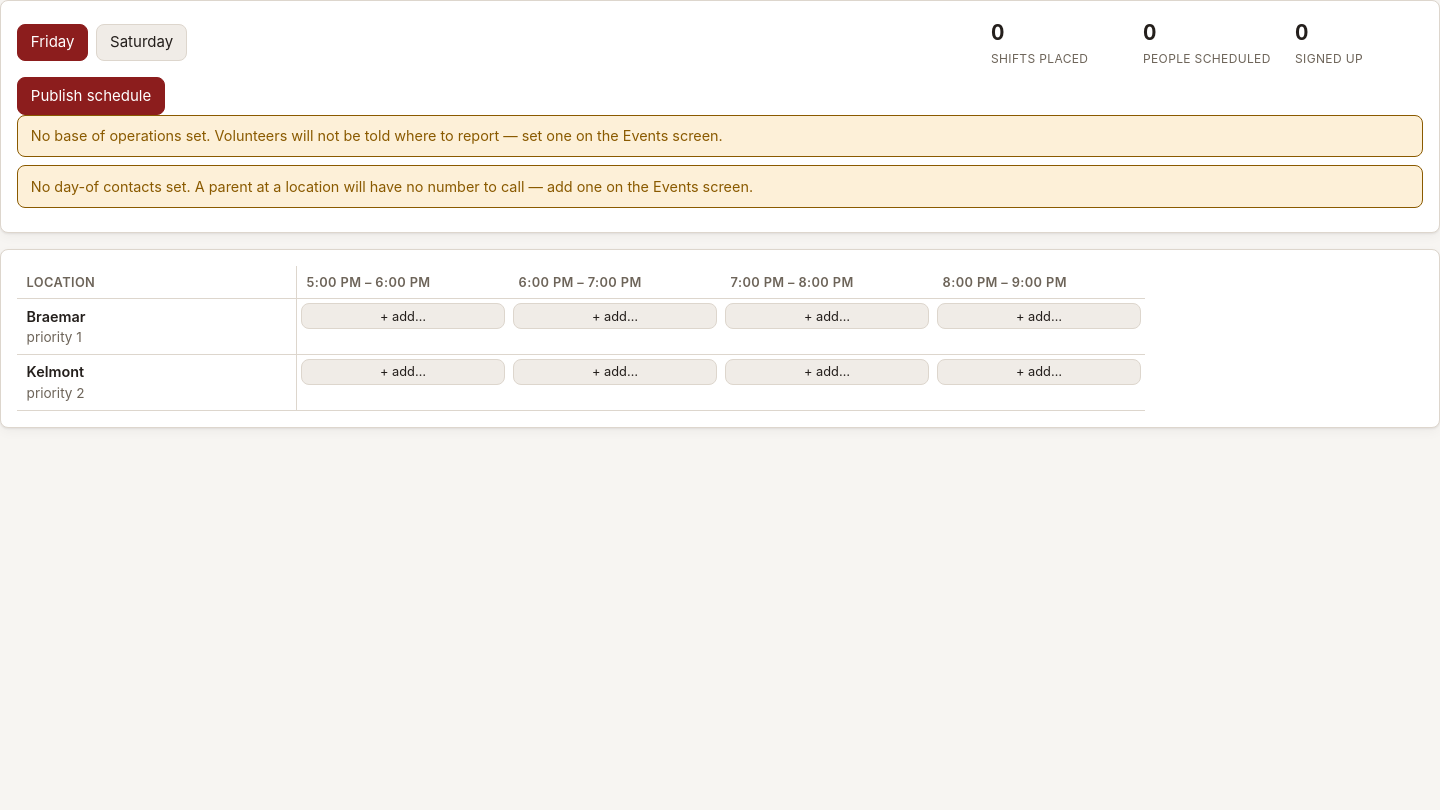
Test case: the fix holds for repeated adds › recovers after a failure and keeps accepting adds
Click the 1st button with class "cell-add": [403, 316] box [301, 303, 505, 329]
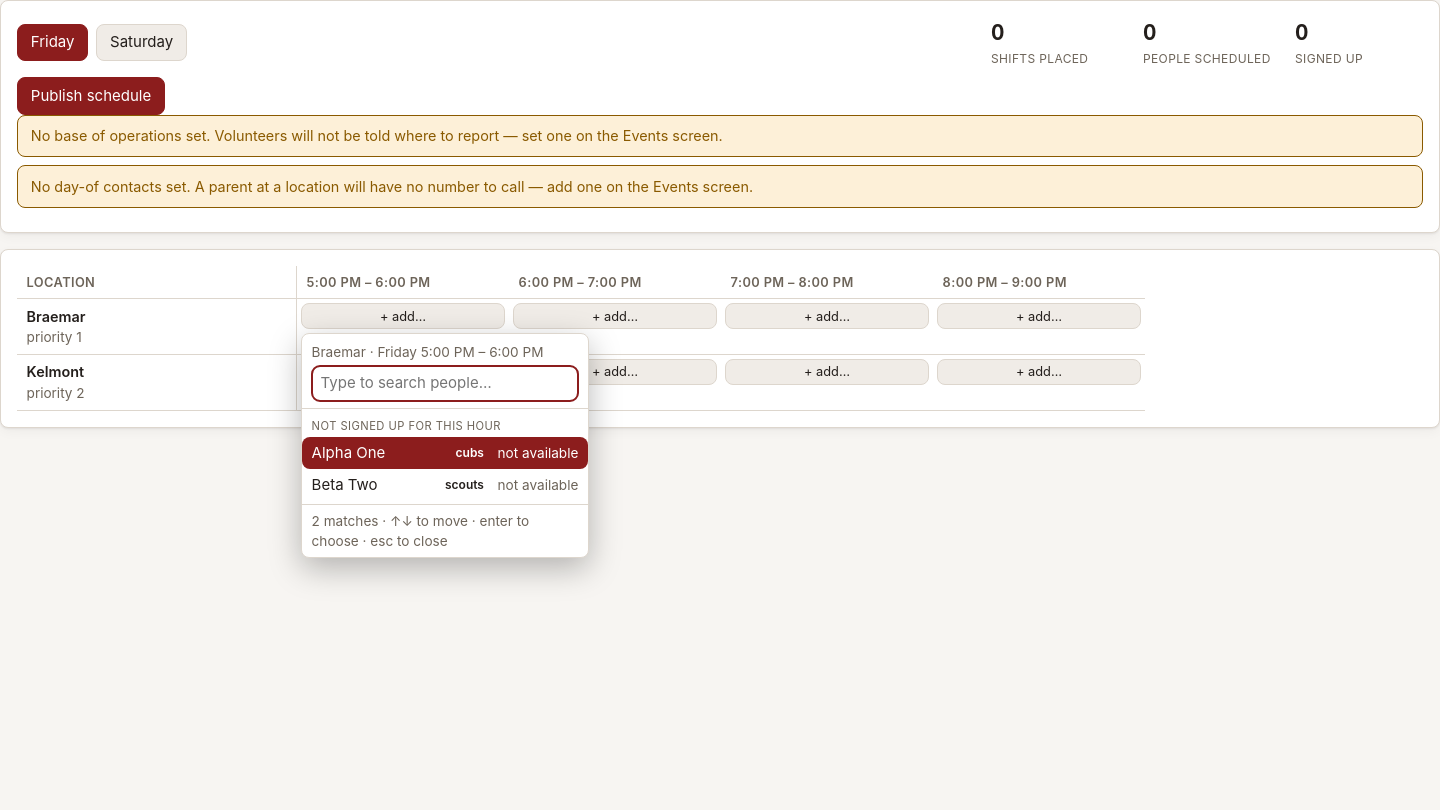
Click the option "Alpha One cubs not available": [348, 452] box [302, 437, 588, 469]
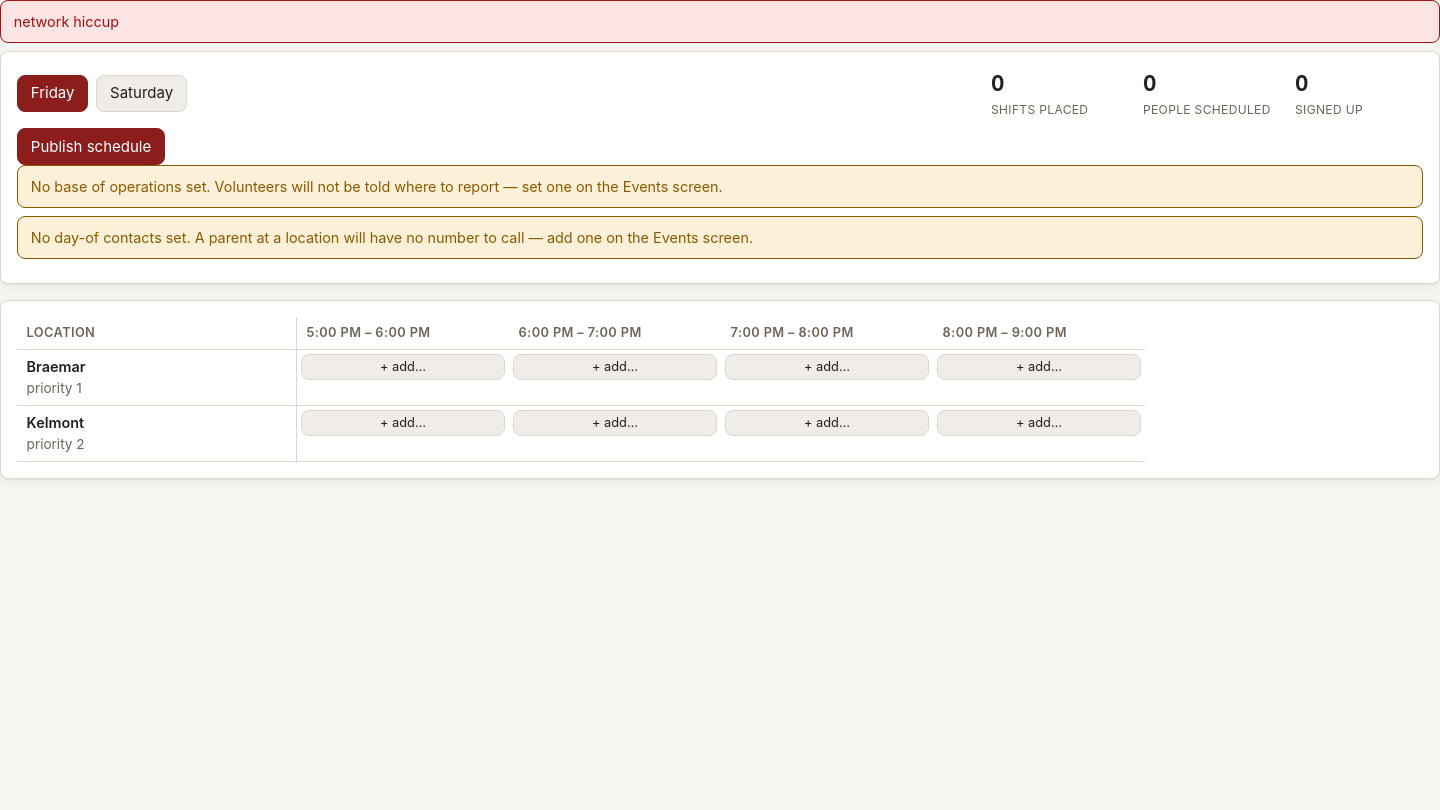
Expected: the text "network hiccup" is shown, [0, 0, 1439, 43]
Click the 5th button with class "cell-add": [403, 423] box [301, 410, 505, 436]
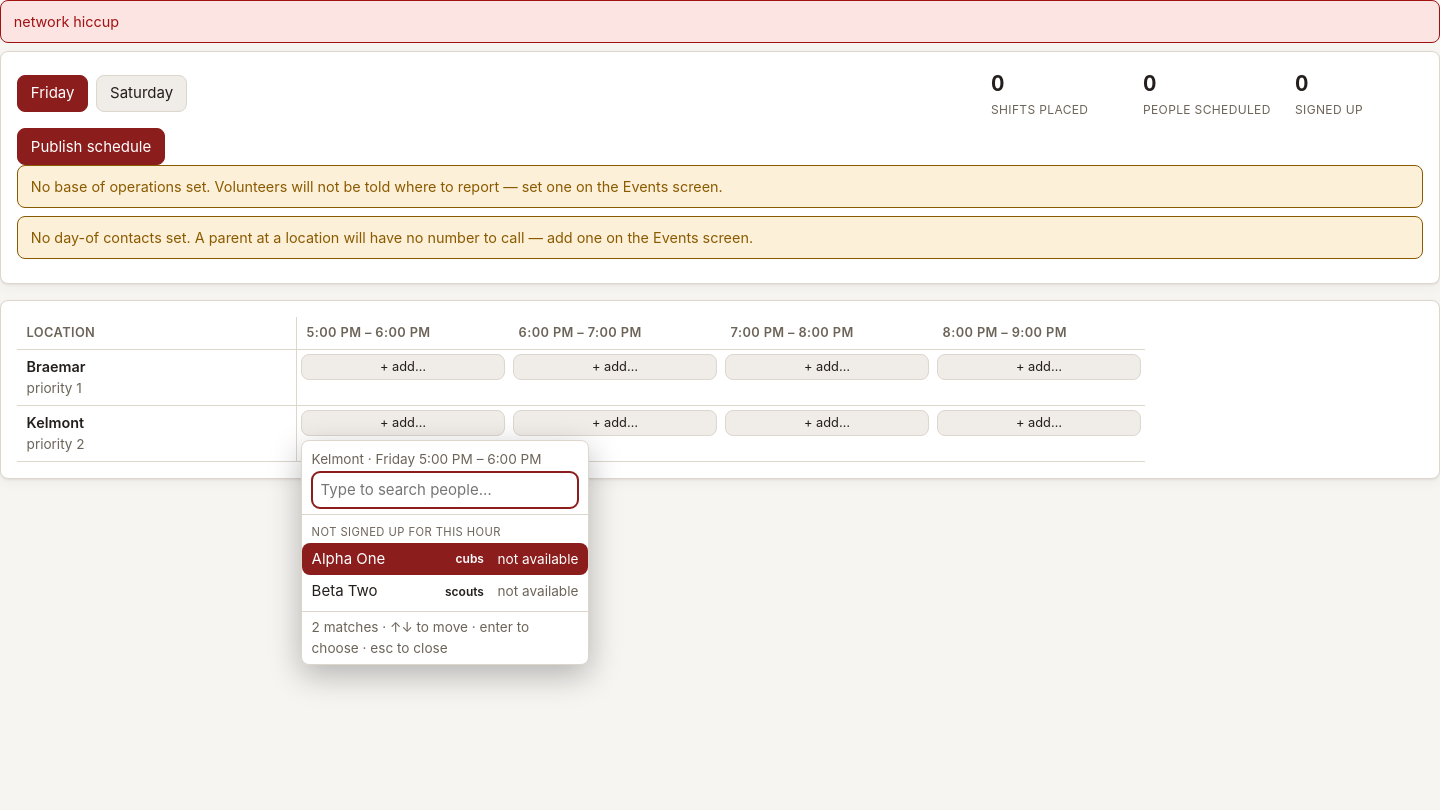
Click the option "Beta Two scouts not available": [445, 592] box [302, 576, 588, 608]
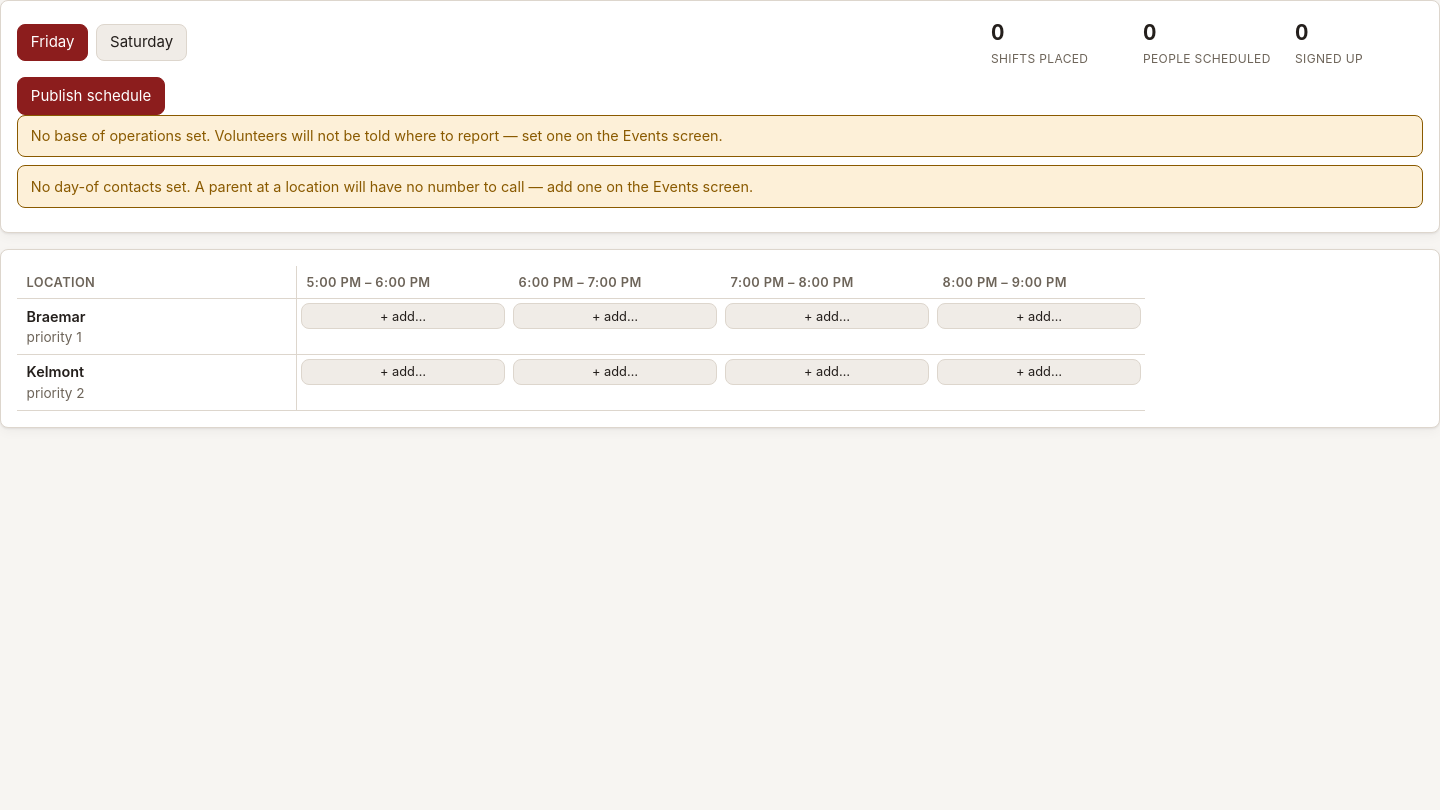
Expected: the text "network hiccup" is gone
